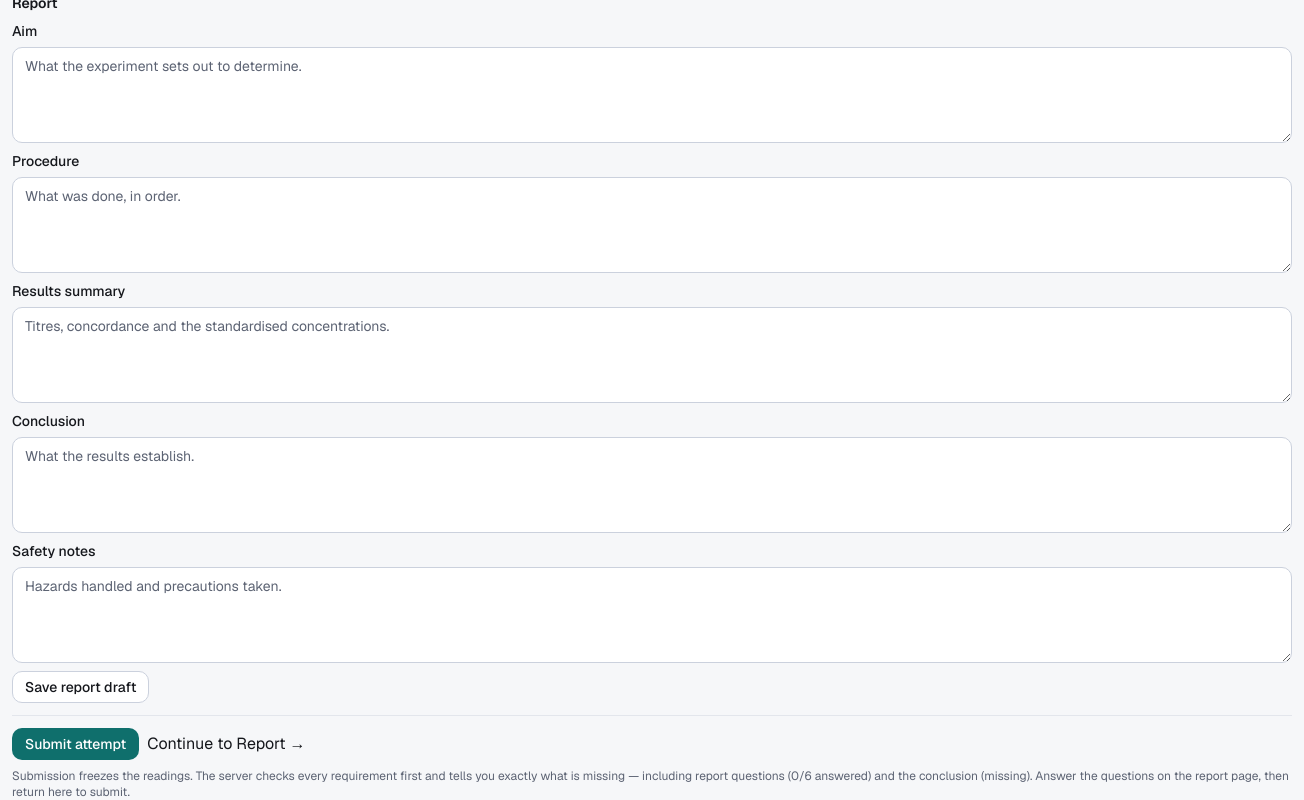
Test case: review and submit panel (jsdom) › marks the finished experiment ready and submits it
(page scrolled)
Click the button "Submit attempt" at [76, 744], box [12,728,139,760]
(page scrolled)
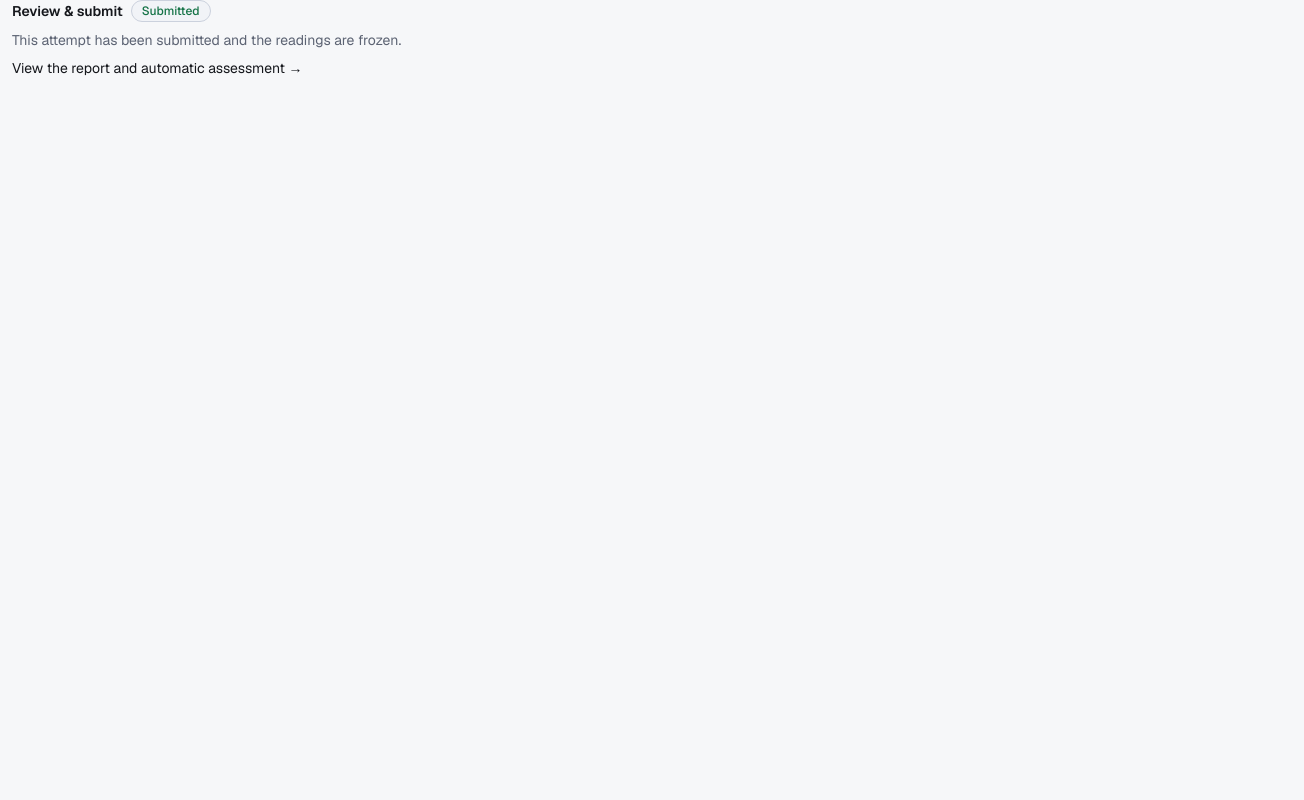
Expected: the text "Submitted" is shown, [131,0,211,22]
Expected: the button "Submit attempt" is gone
